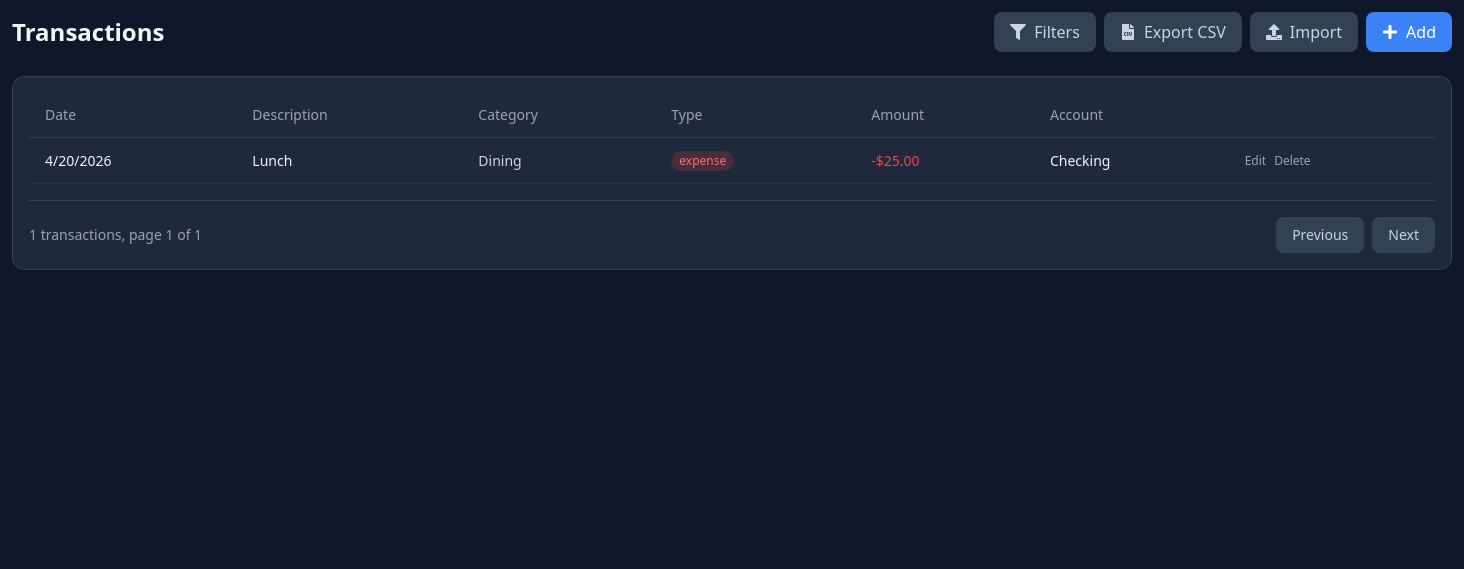
Scenario: Transactions › toggles filters on and off
The width and height of the screenshot is (1464, 569).
Click the button "Filters". click: (1045, 32)
box: left=994, top=12, right=1096, bottom=52
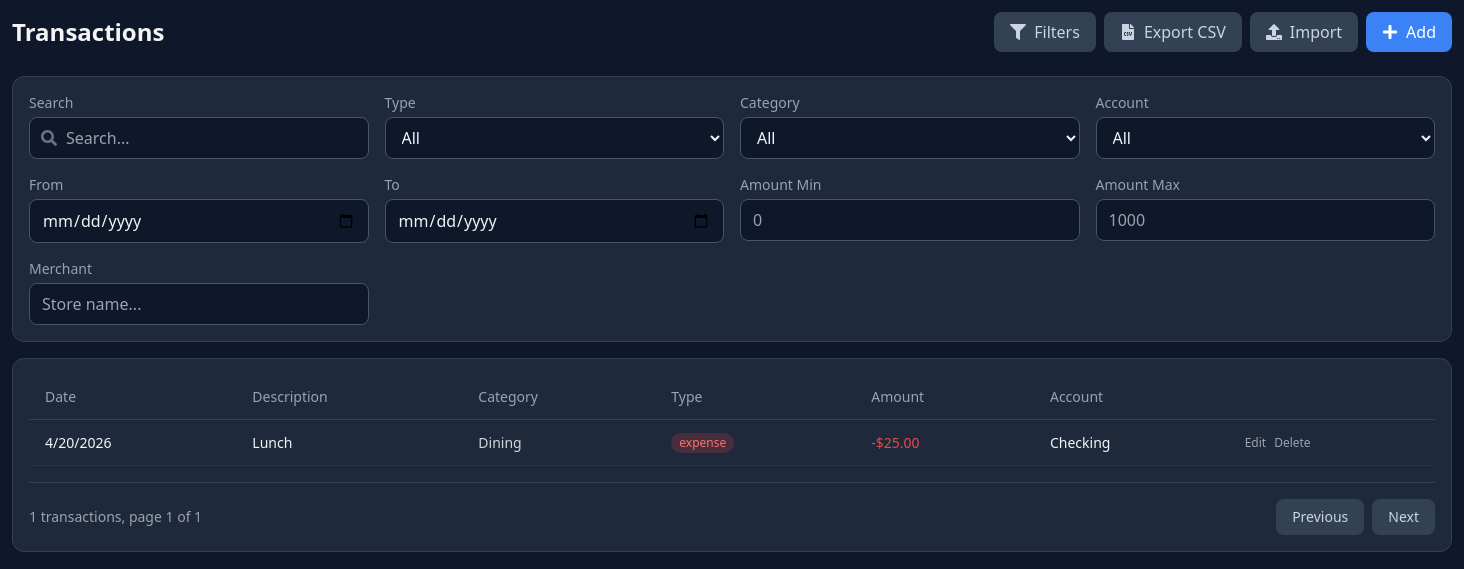
Expected: the field with placeholder "Search..." is shown, left=29, top=117, right=368, bottom=159
Click the button "Filters". click: (1045, 32)
box: left=994, top=12, right=1096, bottom=52
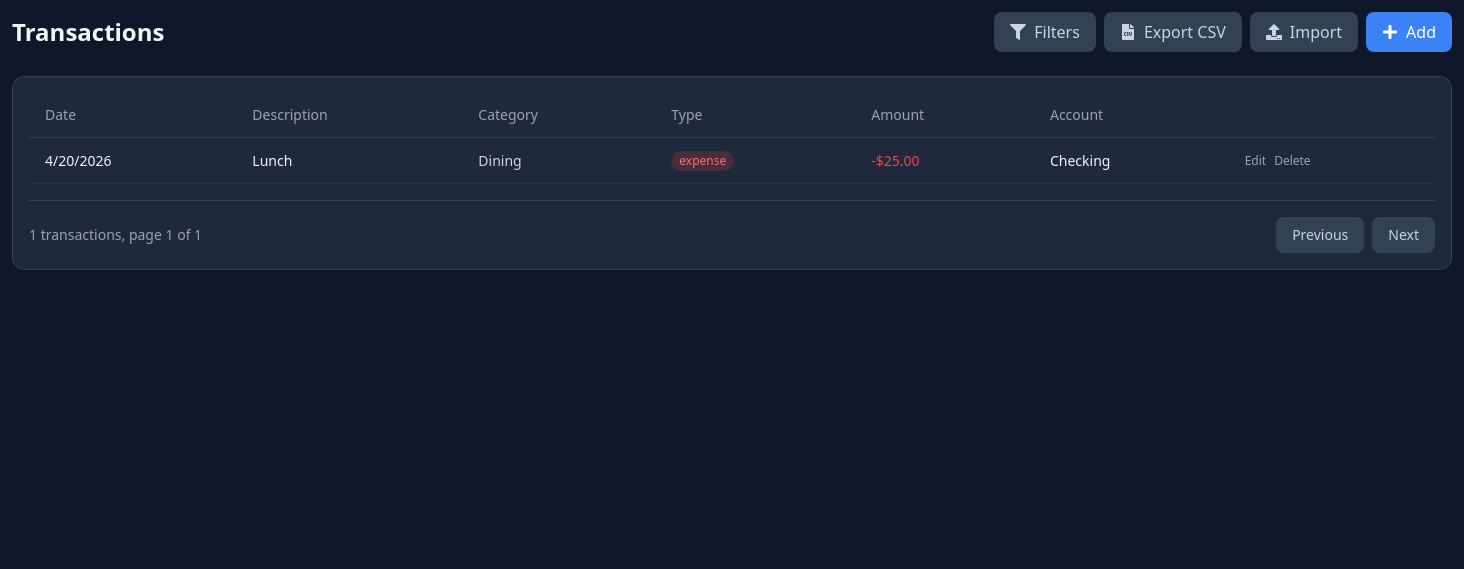
Expected: the field with placeholder "Search..." is gone
